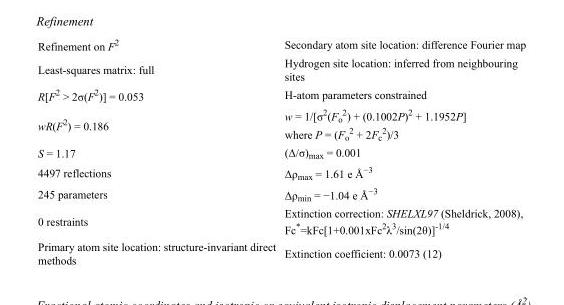table: (37, 36, 525, 265)
table column: (279, 36, 525, 265), (37, 36, 279, 265)
table row: (37, 104, 525, 143), (37, 204, 525, 237), (37, 53, 525, 84), (37, 237, 525, 265), (37, 161, 525, 183), (37, 183, 525, 204), (37, 84, 525, 104), (37, 143, 525, 161), (37, 36, 525, 53)
